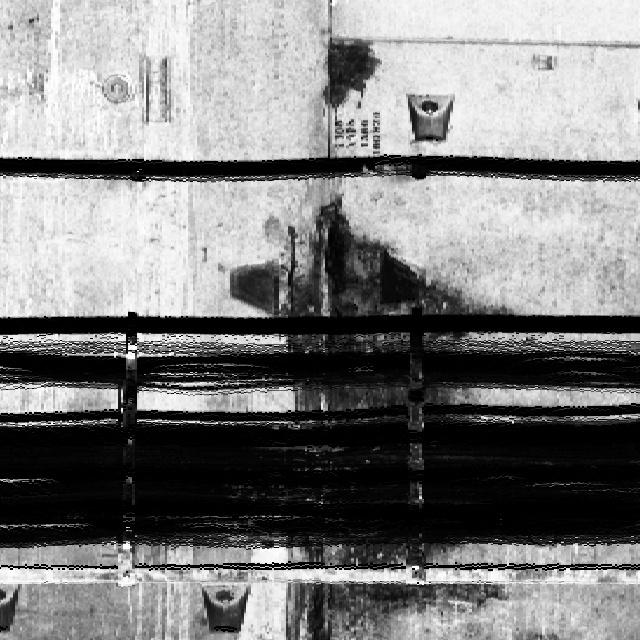leakage: (257, 197, 502, 417), (310, 16, 385, 117)
